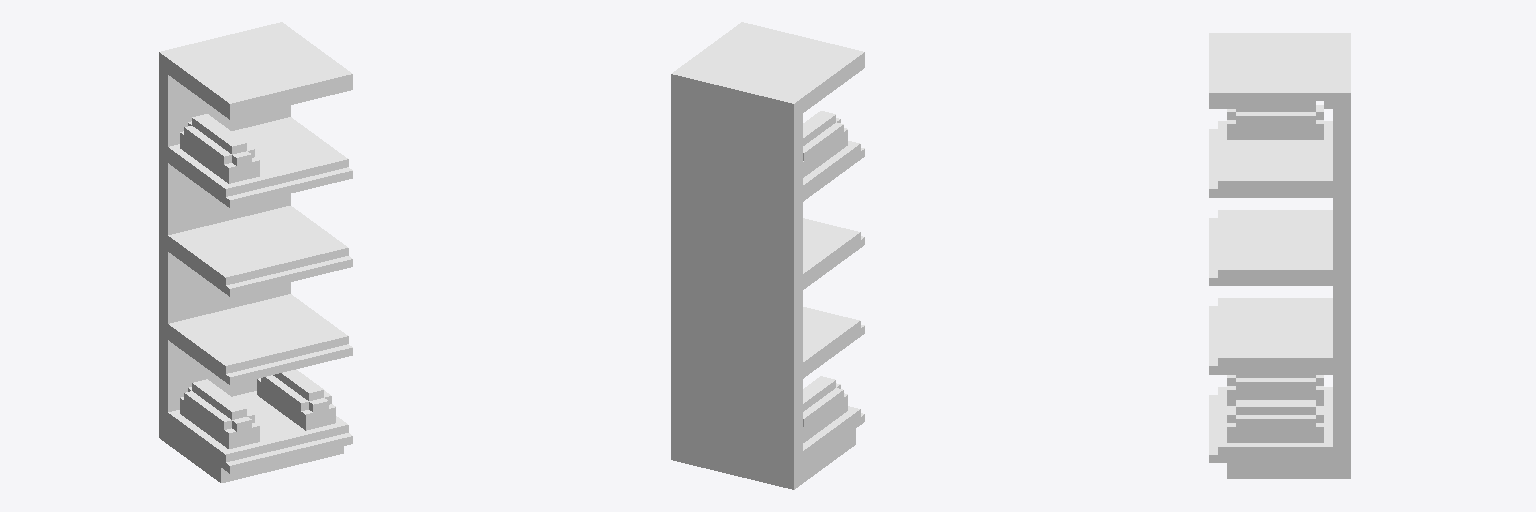
The model's file is fullBreadShelf3.obj.
3 views of the same model, side by side, from view 1: azimuth 30°, elevation 25°; view 2: azimuth 150°, elevation 25°; view 3: azimuth 270°, elevation 25° (orthographic).
Parts seen in each view (by area): view 1: object 1; view 2: object 1; view 3: object 1.
Part boxes in pixels (left/top/right/bottom): object 1: left=159, top=22, right=352, bottom=482; object 1: left=671, top=22, right=864, bottom=489; object 1: left=1209, top=33, right=1350, bottom=478.
Bounding box in the file's own units: 1.6 × 4.8 × 1.6.